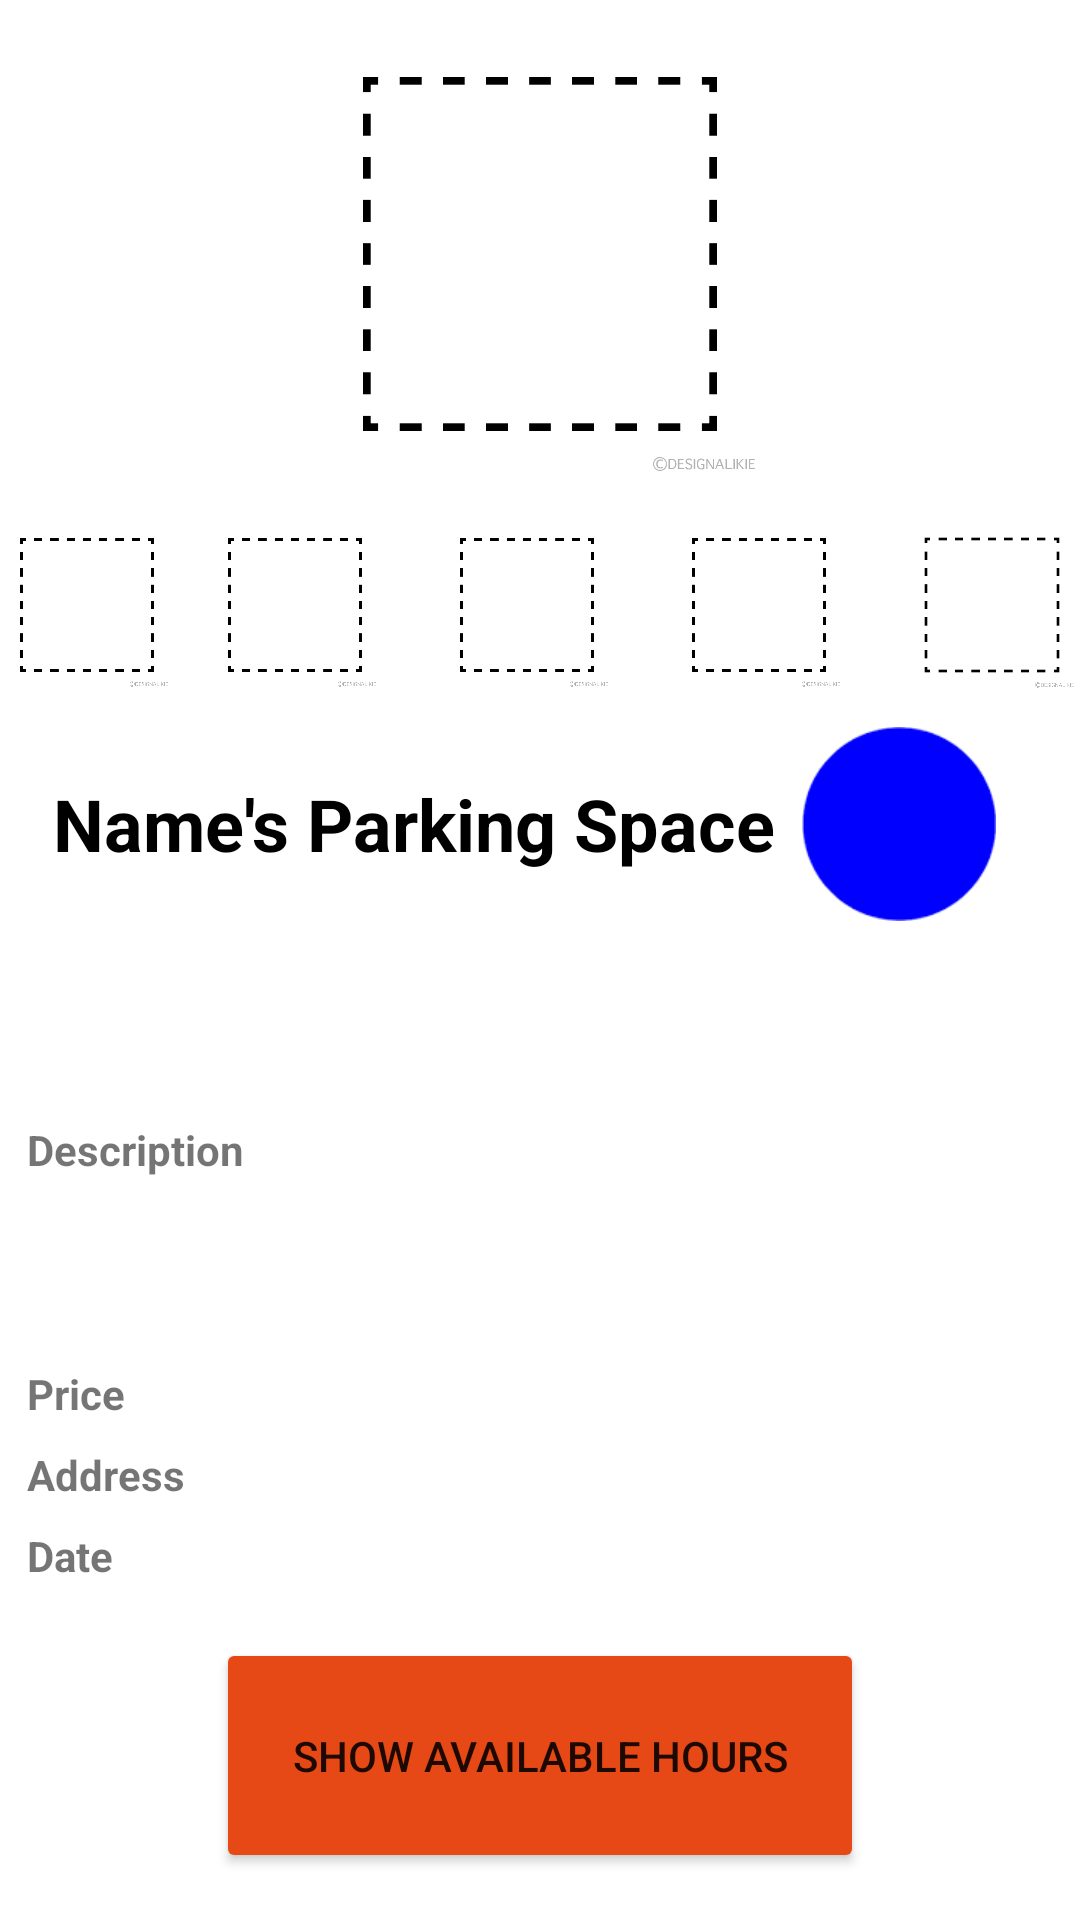

Icon click points for this 1080×1920 phone screenshot, format (x,y):
circle: (899,824)
